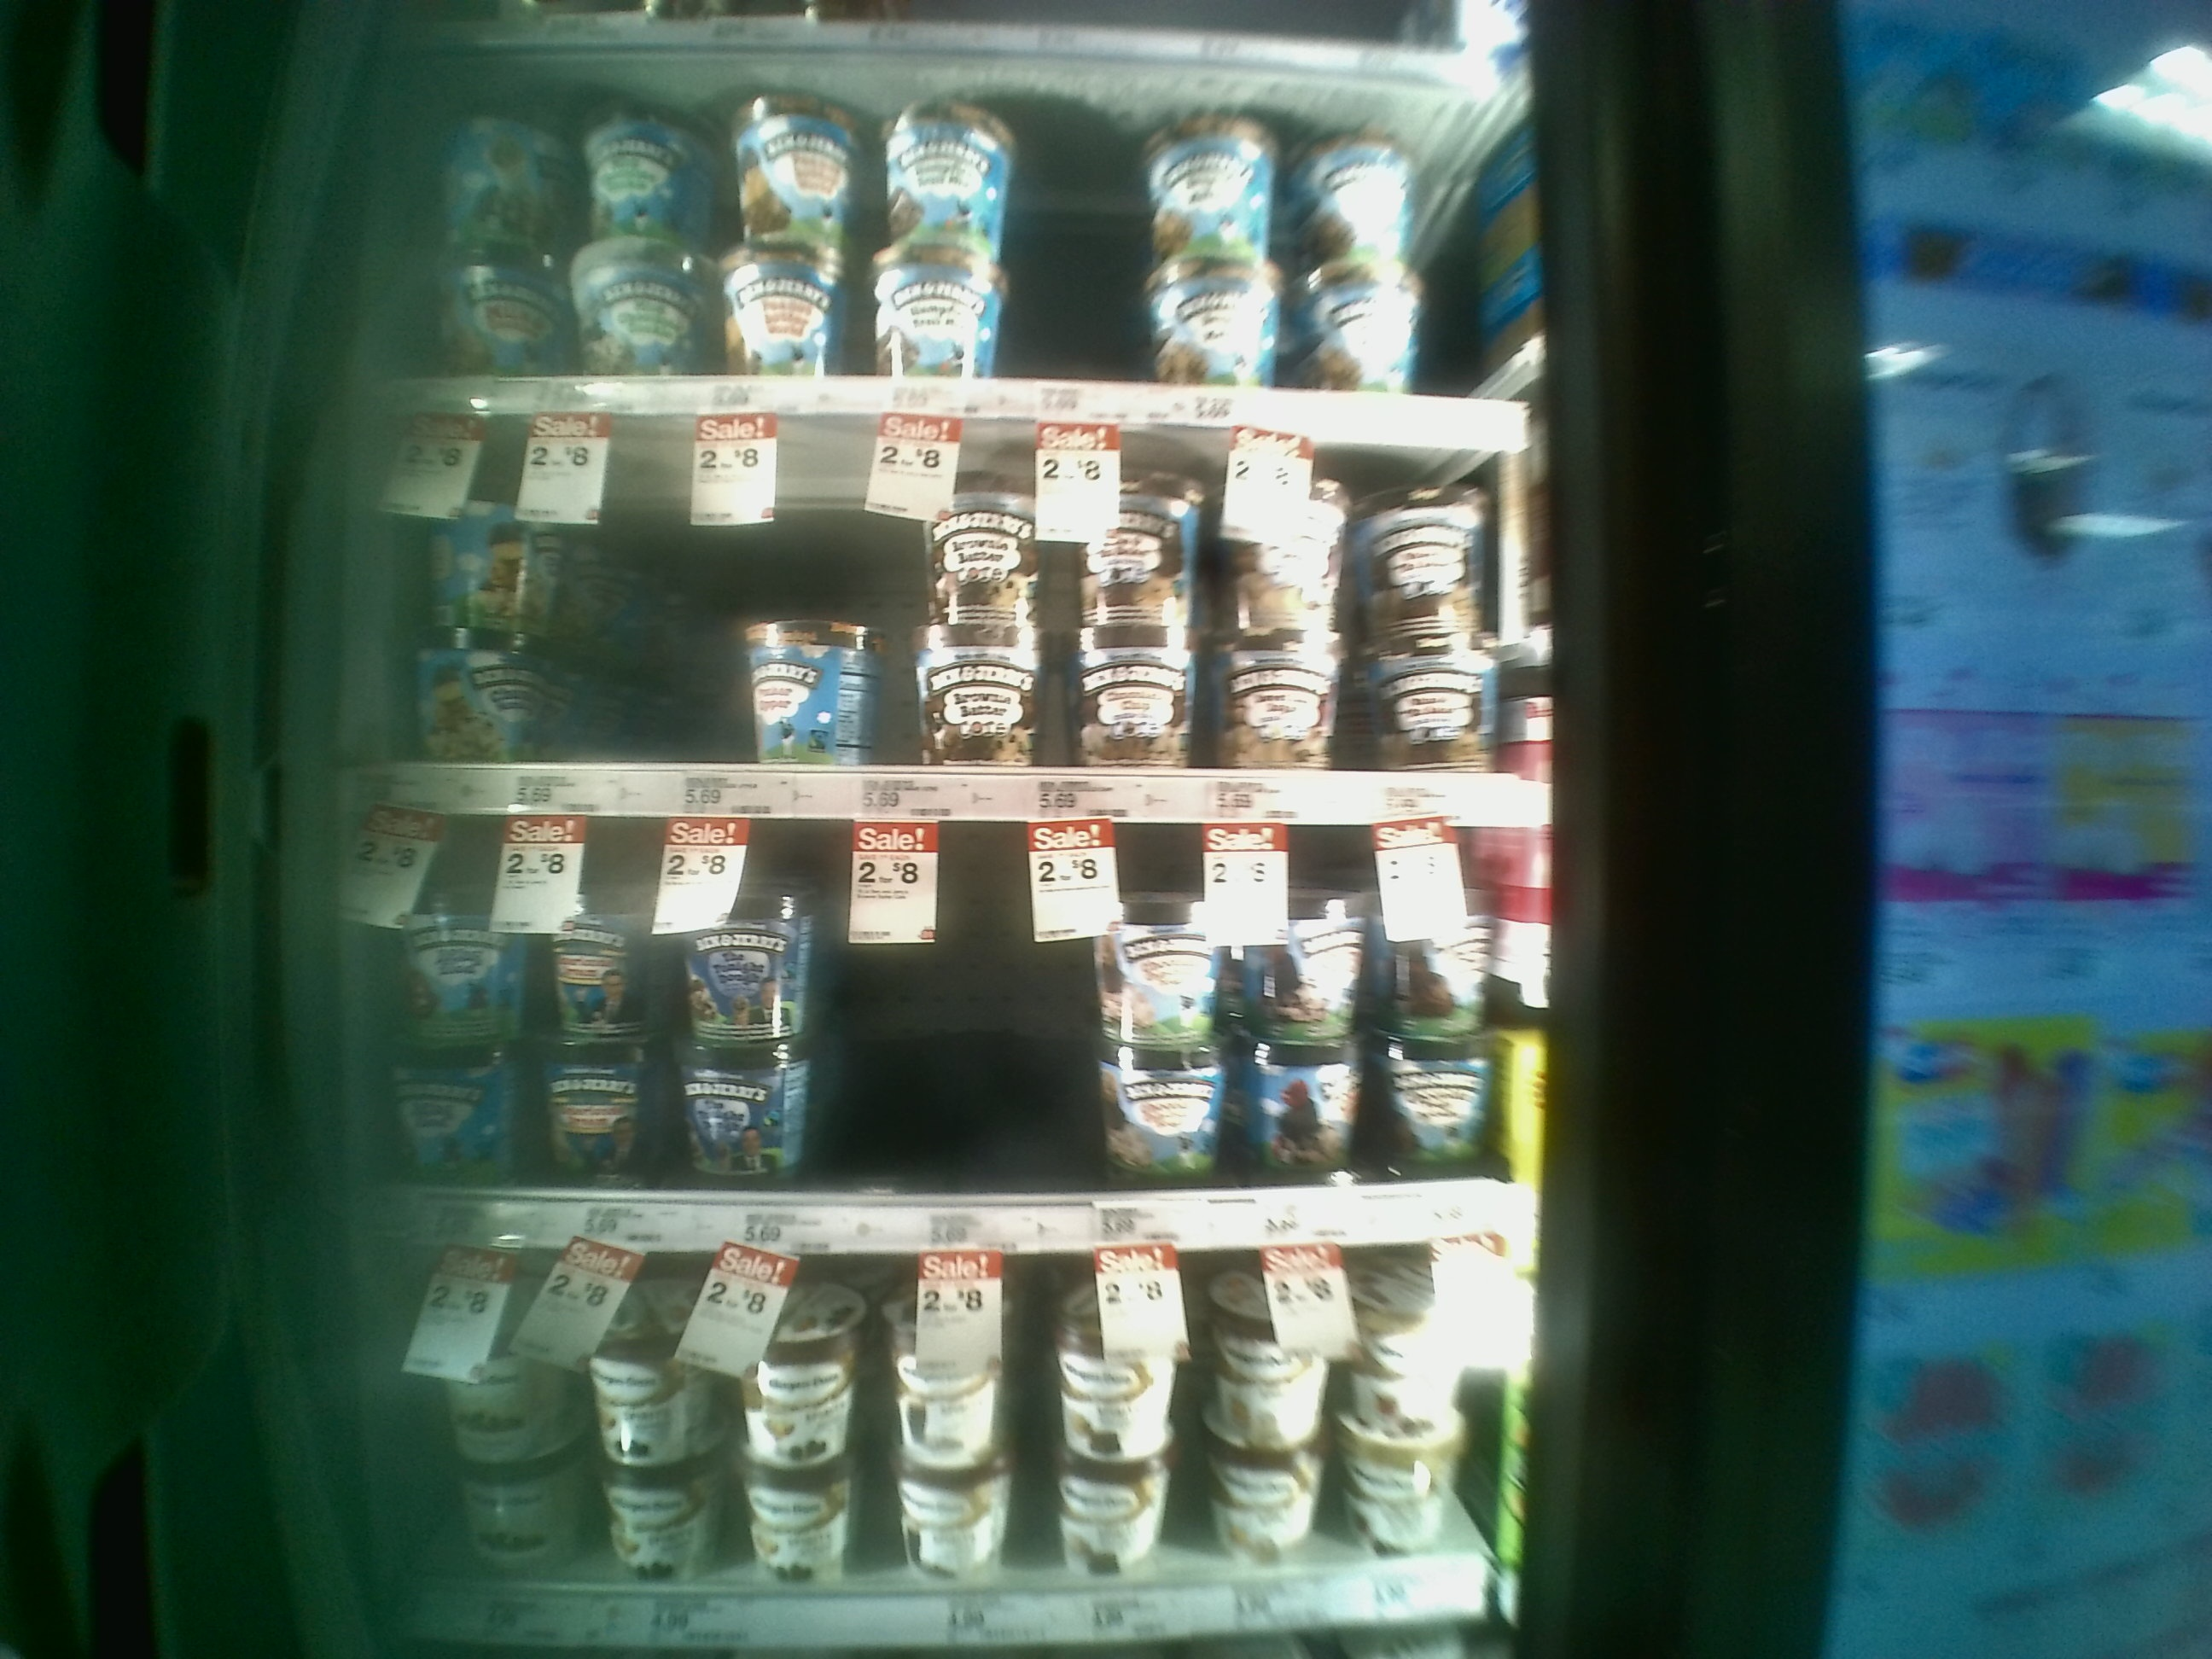ice-cream-shelf: (374, 415, 1554, 823), (380, 828, 1538, 1239), (383, 1246, 1538, 1650)
